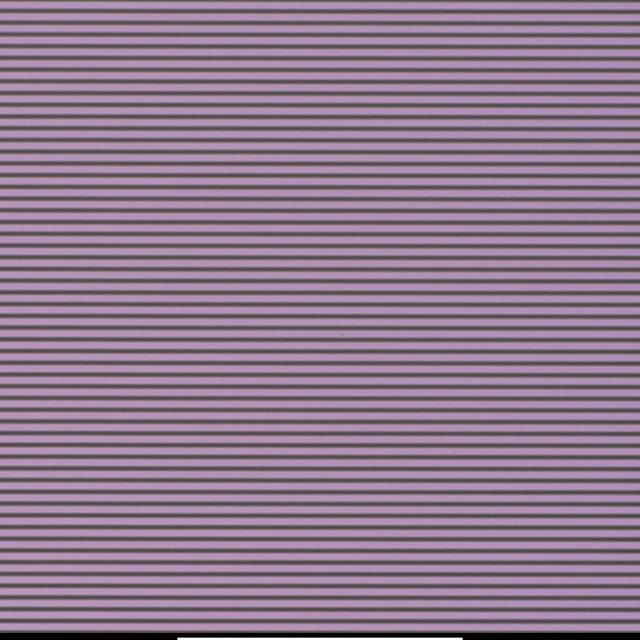nonvisual: (335, 325, 351, 345)
